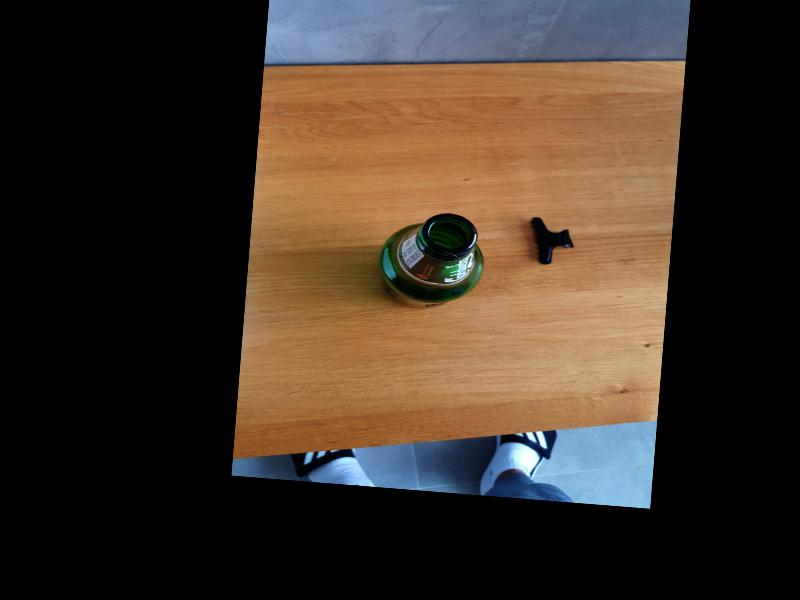Beer: (376, 208, 490, 314)
